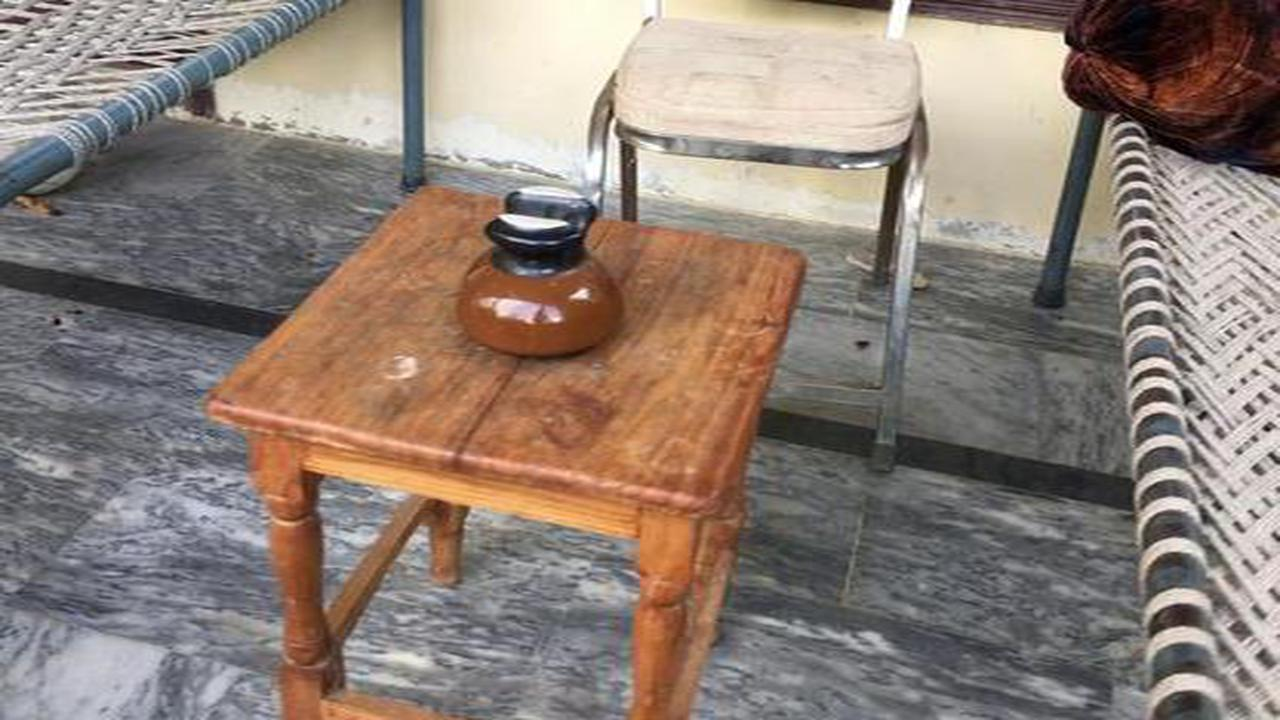insulator_pin: (447, 175, 641, 366)
